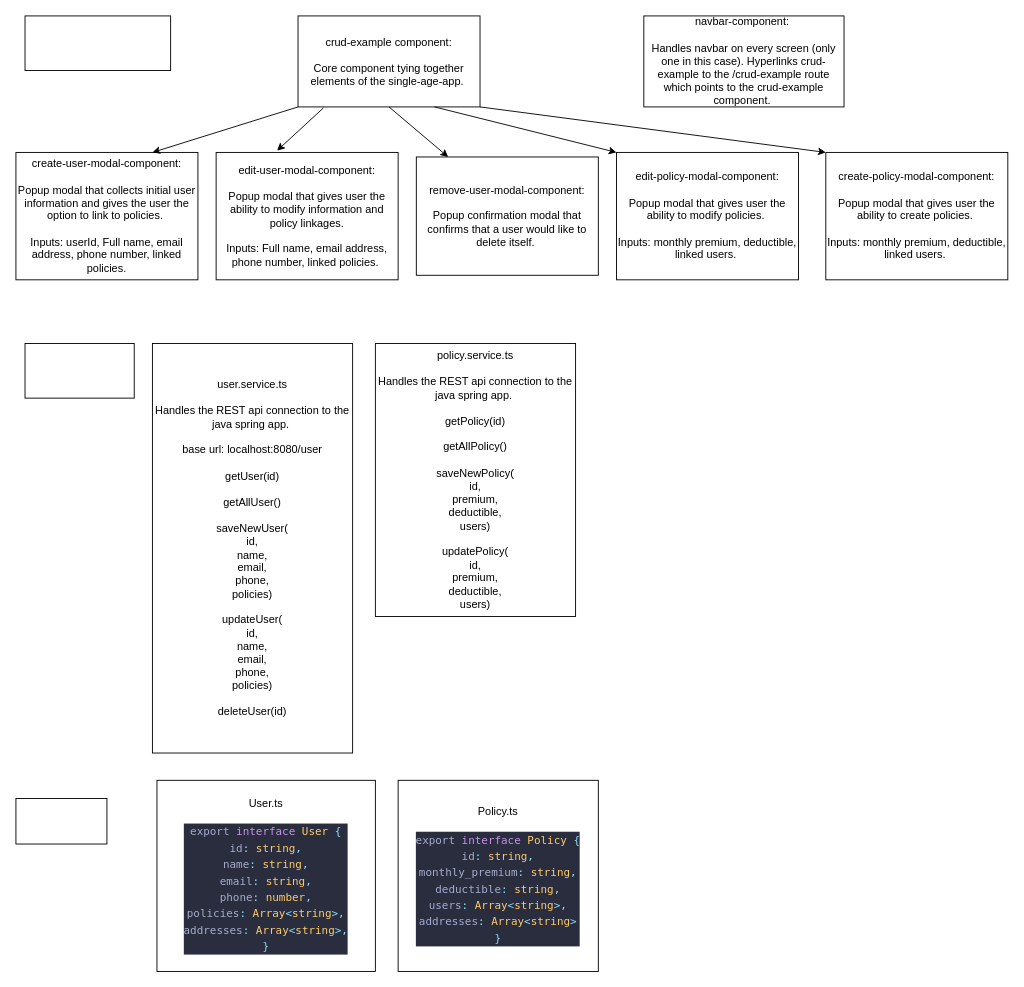
Image size: 1024x987. Some labels were removed from this diagram. The shapes that lost their labels are listed below. From the top down, each one's box as (x1, y1, x2, y2) in pixels, then its label:
(24, 15, 171, 71): Frontend Components:
(24, 343, 134, 398): Frontend Services:
(15, 798, 107, 844): Models:
